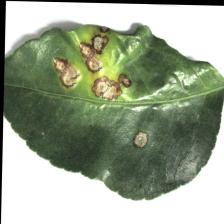canker: (48, 12, 158, 152)
